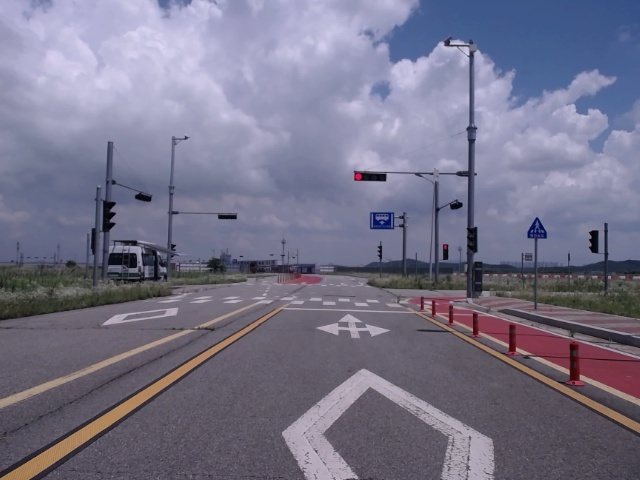red_4: (354, 172, 387, 181)
